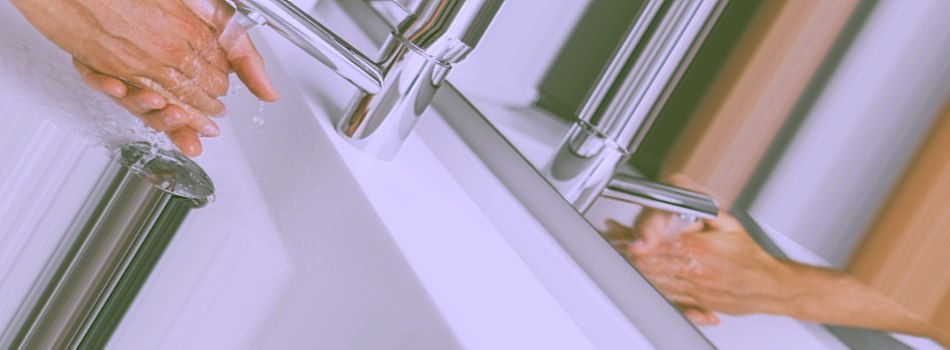washing hand: (19, 0, 368, 230)
